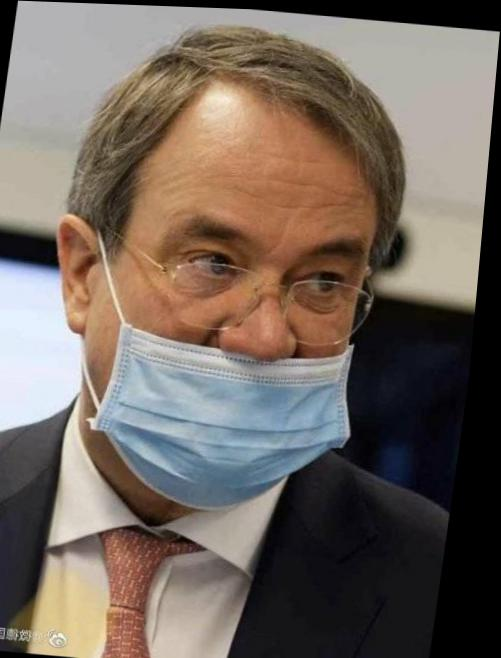WRONG: (98, 171, 392, 517)
